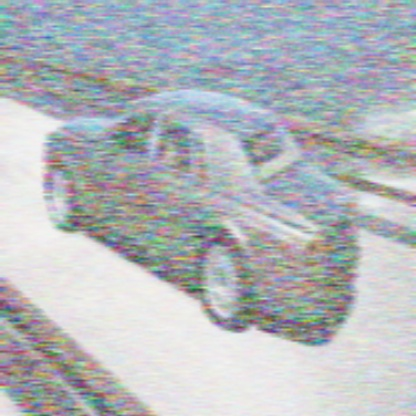Vehicle: (46, 90, 360, 334)
